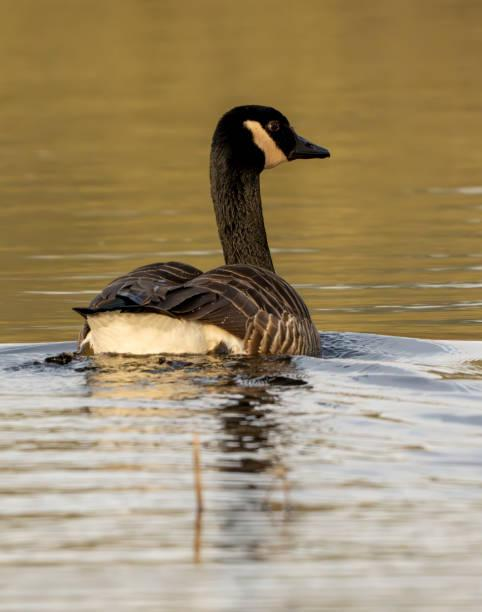Canadian-Goose: (79, 101, 337, 355)
